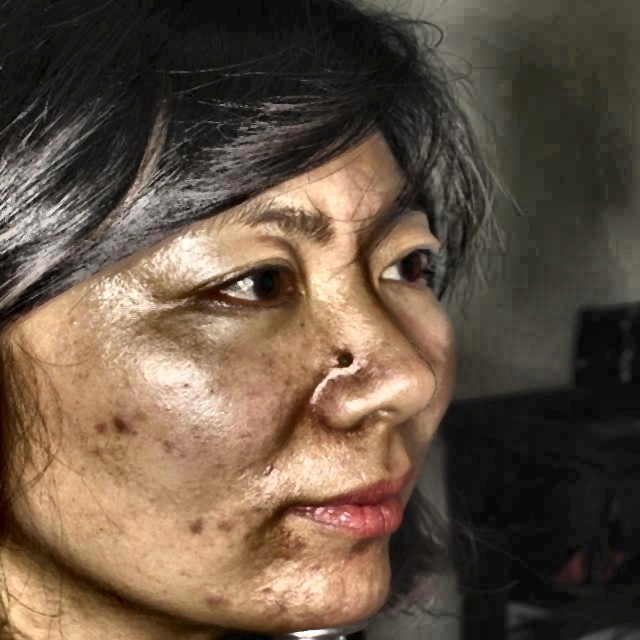comedone: (100, 407, 142, 441), (182, 505, 208, 547), (208, 588, 230, 610)
